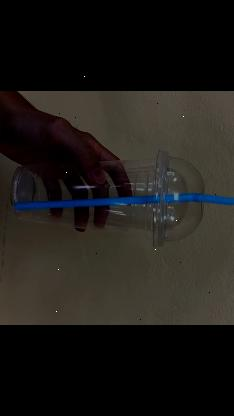Others: (11, 156, 234, 250)
